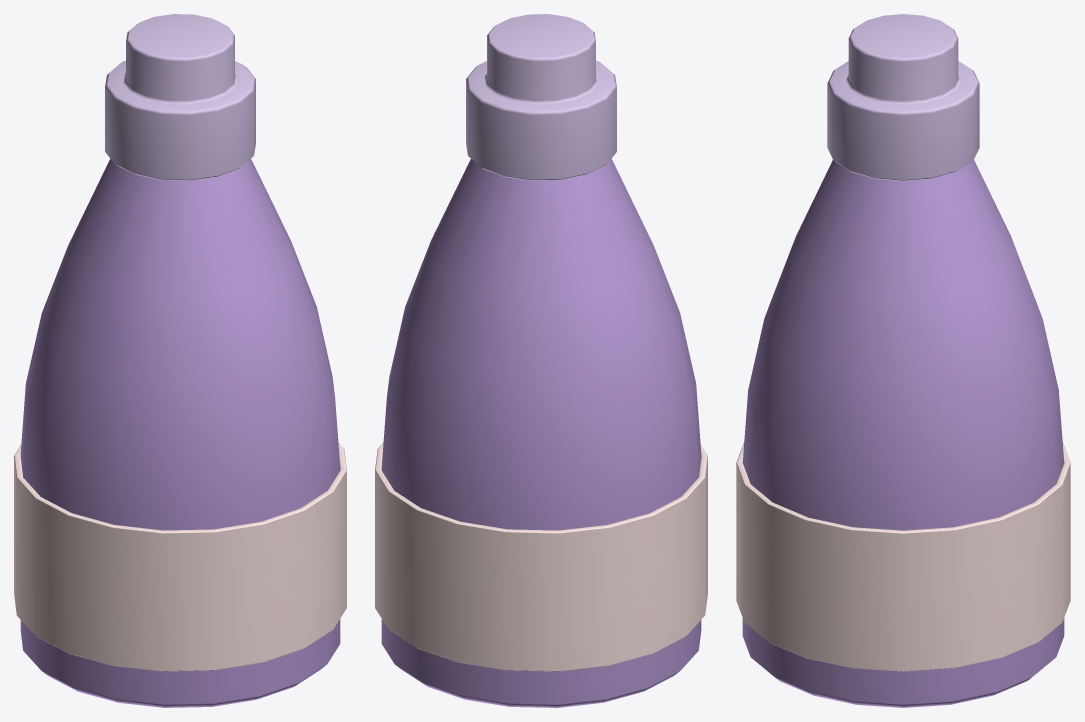
The model's file is Public_13_Bottle_5.glb.
3 renders of one model, left to right at view 1: azimuth 30°, elevation 25°; view 2: azimuth 150°, elevation 25°; view 3: azimuth 270°, elevation 25°, orthographic.
Visible parts, largest first — view 1: Public_13_Bottle_5; view 2: Public_13_Bottle_5; view 3: Public_13_Bottle_5.
Part boxes in pixels (x1=…): Public_13_Bottle_5: x1=14, y1=14, x2=346, y2=707; Public_13_Bottle_5: x1=375, y1=14, x2=707, y2=707; Public_13_Bottle_5: x1=736, y1=14, x2=1070, y2=707.
Bounding box in the file's own units: 0.3993 × 0.8001 × 0.3993.
1 material, 1 textured.
